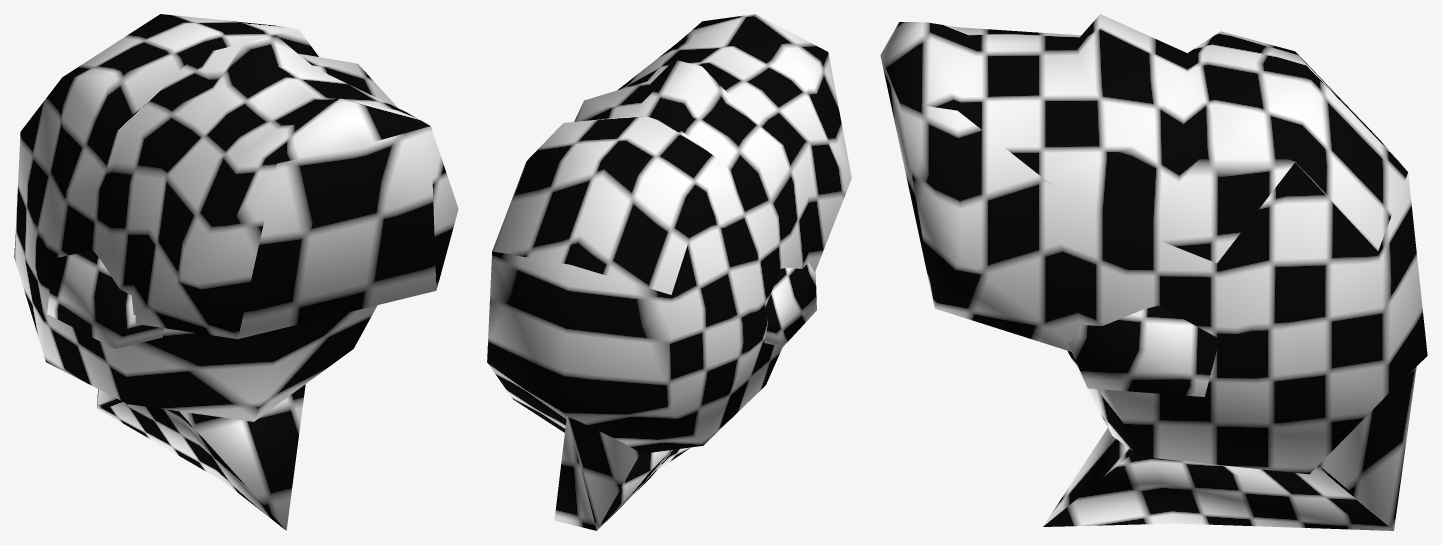
File: infaunhumafa3.dae
3 renders of one model, left to right at view 1: azimuth 30°, elevation 25°; view 2: azimuth 150°, elevation 25°; view 3: azimuth 270°, elevation 25°, orthographic. The views are drawn at different scales.
Parts seen in each view (by area): view 1: face; view 2: face; view 3: face.
Boxes of the visible parts, box(x1,y1,x2,y2) form: face: box(14, 14, 458, 530); face: box(487, 14, 851, 530); face: box(880, 14, 1427, 530).
Size of the model in its own units: 1.11 by 1.51 by 1.53.
1 material, 1 textured.
